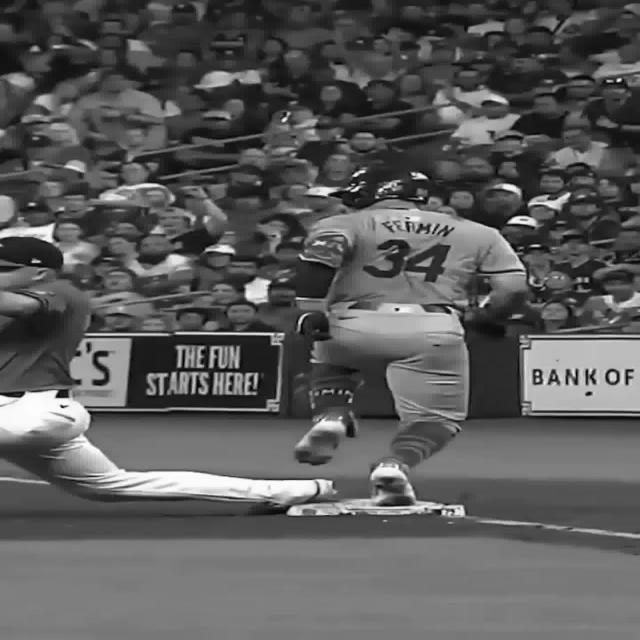base: (280, 497, 482, 516)
shoe: (293, 411, 356, 465), (368, 457, 416, 506), (270, 479, 347, 505)
